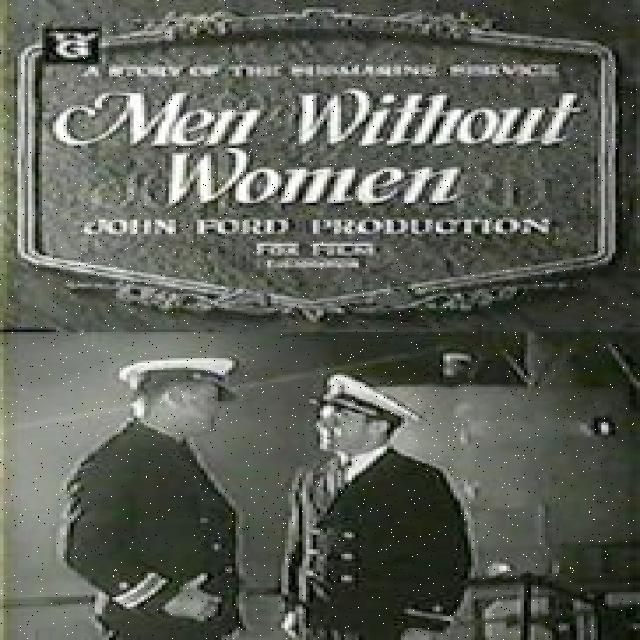movie-judul: (48, 82, 594, 207)
picture: (3, 0, 640, 637)
